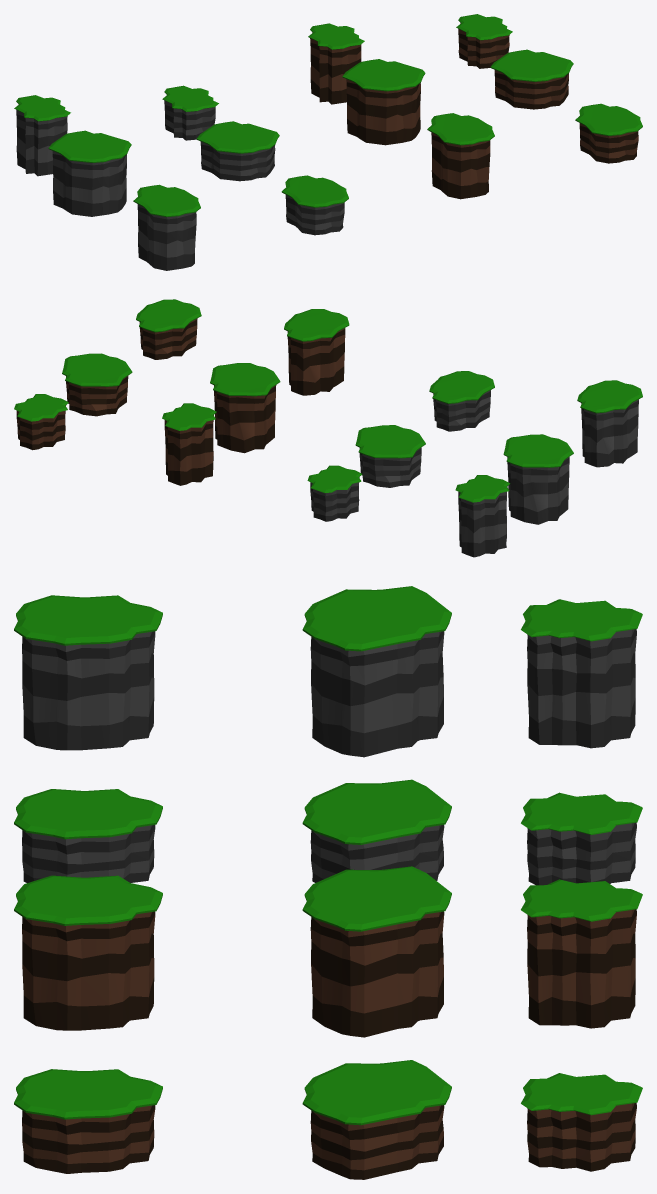
The model's file is CliffsPretty4.glb.
3 renders of one model, top to bottom at view 1: azimuth 30°, elevation 25°; view 2: azimuth 150°, elevation 25°; view 3: azimuth 270°, elevation 25°, orthographic. The views are drawn at different scales.
Parts seen in each view (by area): view 1: 1.001, 1.003, 3.003, 3.001, 1.002, 1, 2.001, 2.005, 3, 3.002, 2, 2.004; view 2: 1.003, 1.001, 3.003, 3.001, 2.001, 2.005, 1.002, 1, 3, 3.002, 2.004, 2; view 3: 1.003, 1.001, 3.003, 3.001, 2.001, 2.005, 1, 3, 1.002, 3.002, 2, 2.004.
Part boxes in pixels (x1,y1,x2,y2): 1.001: [342, 59, 425, 145]; 1.003: [48, 130, 131, 216]; 3.003: [133, 184, 200, 270]; 3.001: [427, 113, 494, 199]; 1.002: [196, 121, 279, 181]; 1: [490, 49, 573, 109]; 2.001: [308, 23, 364, 104]; 2.005: [14, 95, 70, 176]; 3: [575, 103, 642, 163]; 3.002: [281, 175, 348, 235]; 2: [456, 14, 512, 68]; 2.004: [162, 85, 218, 140]; 1.003: [503, 434, 573, 524]; 1.001: [210, 363, 280, 453]; 3.003: [577, 380, 642, 467]; 3.001: [284, 309, 349, 395]; 2.001: [162, 403, 216, 485]; 2.005: [455, 475, 510, 557]; 1.002: [355, 425, 425, 487]; 1: [62, 353, 132, 416]; 3: [136, 299, 201, 359]; 3.002: [429, 371, 494, 431]; 2.004: [307, 465, 362, 521]; 2: [14, 394, 68, 450]; 1.003: [302, 586, 451, 757]; 1.001: [302, 866, 451, 1037]; 3.003: [14, 595, 162, 750]; 3.001: [14, 875, 162, 1030]; 2.001: [521, 879, 642, 1028]; 2.005: [521, 599, 642, 748]; 1: [302, 1060, 451, 1179]; 3: [14, 1069, 162, 1173]; 1.002: [302, 779, 451, 882]; 3.002: [14, 789, 162, 882]; 2: [521, 1073, 642, 1171]; 2.004: [521, 792, 642, 885].
Bounding box in the file's own units: 34.36 × 3.85 × 18.82.
1 material, 1 textured.
